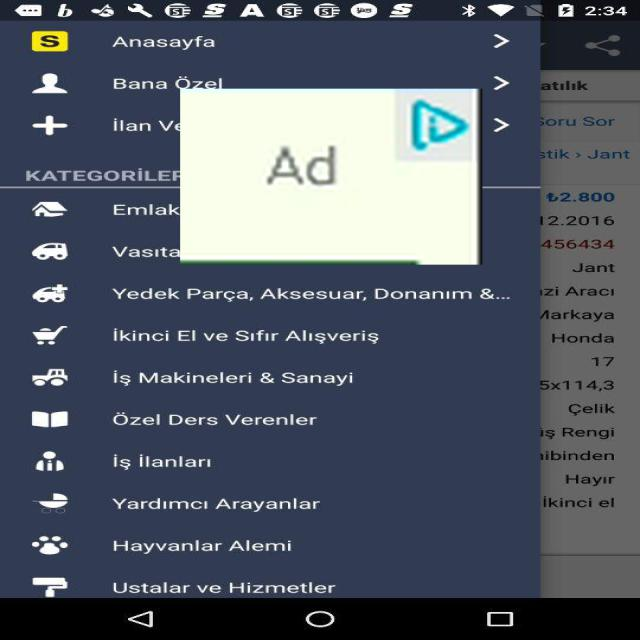sneaking: (180, 88, 482, 264)
